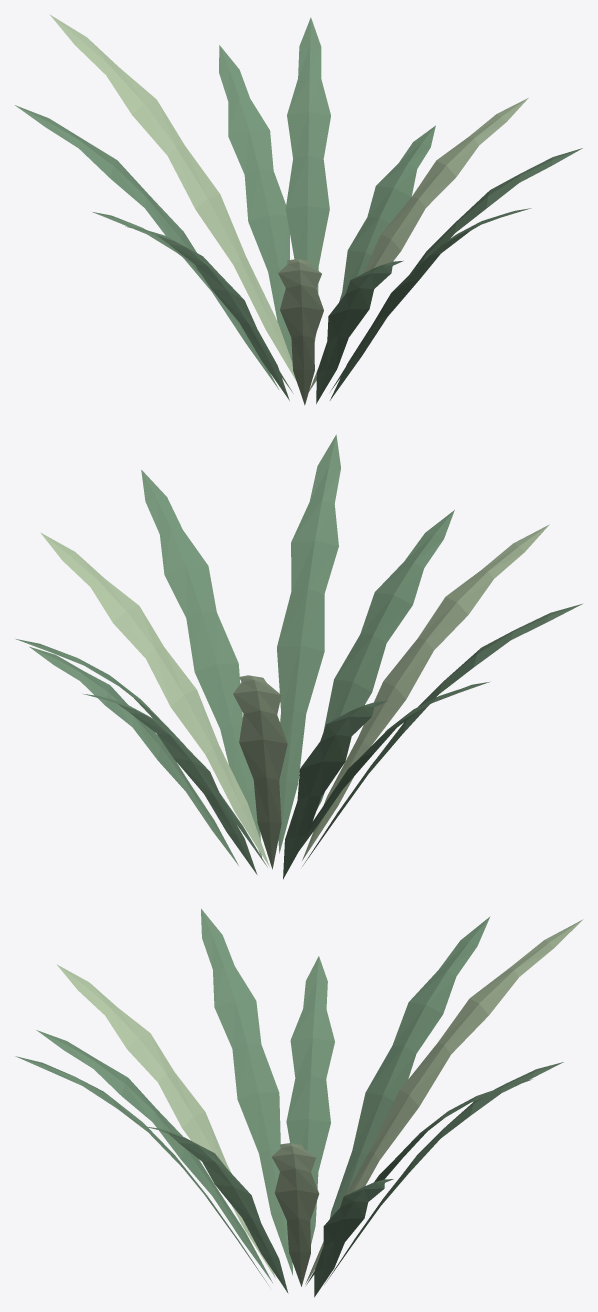
The model's file is stone-sawgrass.glb.
The picture shows the model from 3 angles, top to bottom: view 1: azimuth 30°, elevation 25°; view 2: azimuth 150°, elevation 25°; view 3: azimuth 270°, elevation 25°; orthographic projection. The views are drawn at different scales.
Parts seen in each view (by area): view 1: stone-sawgrass; view 2: stone-sawgrass; view 3: stone-sawgrass.
Boxes of the visible parts, left/top/right/bottom form: stone-sawgrass: left=15, top=14, right=582, bottom=405; stone-sawgrass: left=16, top=434, right=582, bottom=879; stone-sawgrass: left=15, top=908, right=583, bottom=1297.
Bounding box in the file's own units: 0.3488 × 0.2268 × 0.3787.
